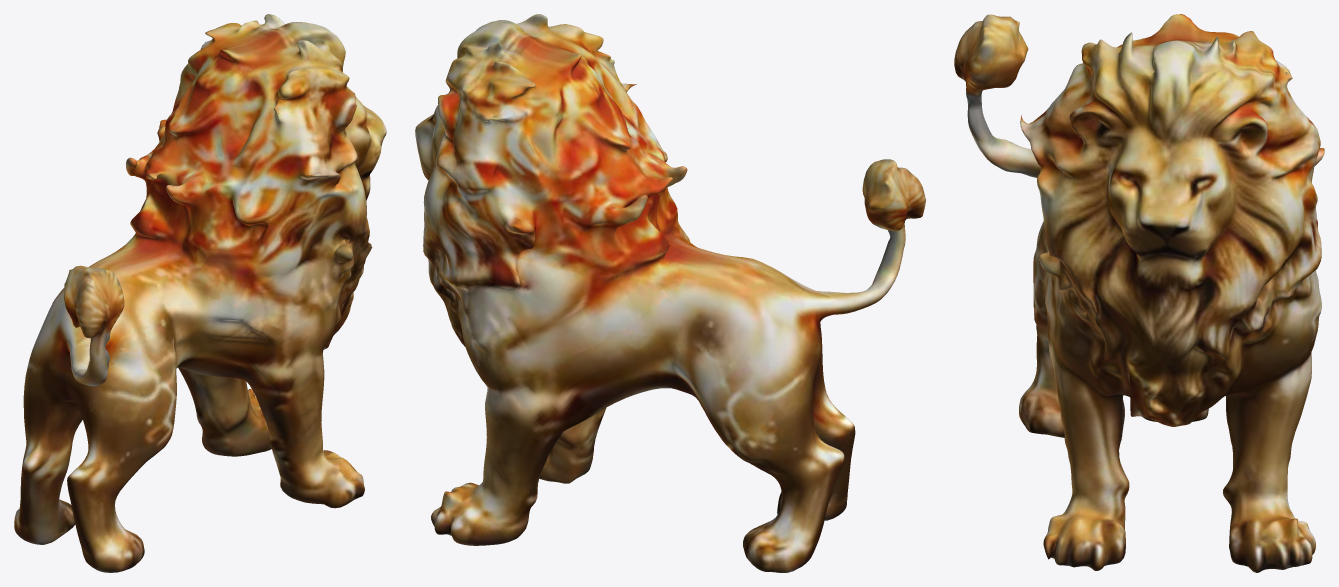
File: thunder_lion.glb
3 views of the same model, side by side, from view 1: azimuth 30°, elevation 25°; view 2: azimuth 150°, elevation 25°; view 3: azimuth 270°, elevation 25° (orthographic). The views are drawn at different scales.
Parts seen in each view (by area): view 1: tripo_node_d5117466-a470-490e-9c86-92f86349b98b; view 2: tripo_node_d5117466-a470-490e-9c86-92f86349b98b; view 3: tripo_node_d5117466-a470-490e-9c86-92f86349b98b.
Boxes of the visible parts, x1,y1,x2,y2 form: tripo_node_d5117466-a470-490e-9c86-92f86349b98b: (14, 14, 386, 572); tripo_node_d5117466-a470-490e-9c86-92f86349b98b: (415, 14, 925, 572); tripo_node_d5117466-a470-490e-9c86-92f86349b98b: (954, 14, 1324, 572).
Size of the model in its own units: 0.6602 by 0.7285 by 0.4648.
Materials: 1 (1 with a texture image).
